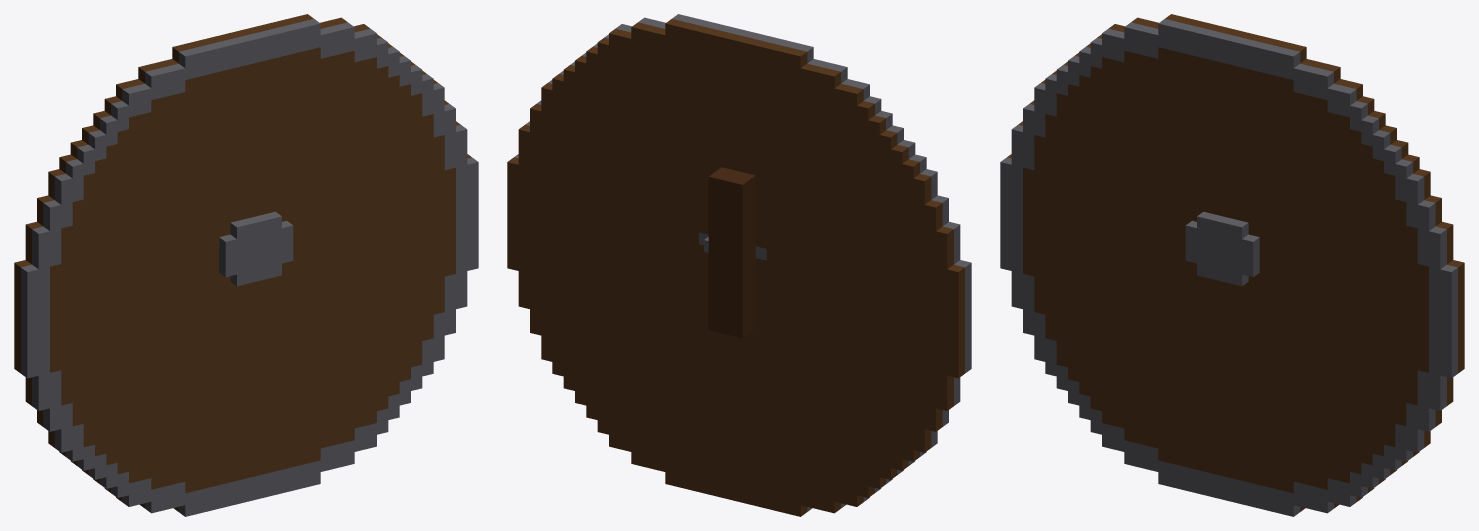
File: round_buckler.glb
The picture shows the model from 3 angles, left to right: view 1: azimuth 30°, elevation 25°; view 2: azimuth 150°, elevation 25°; view 3: azimuth 330°, elevation 25°; orthographic projection.
Parts seen in each view (by area): view 1: round_buckler; view 2: round_buckler; view 3: round_buckler.
Part boxes in pixels (left/top/right/bottom): round_buckler: left=14, top=14, right=478, bottom=516; round_buckler: left=507, top=14, right=971, bottom=516; round_buckler: left=1000, top=14, right=1464, bottom=516.
Size of the model in its own units: 0.6 by 0.585 by 0.075.
